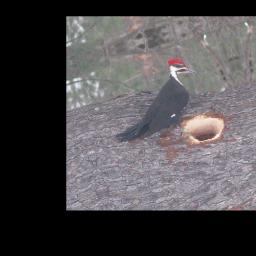Woodpecker: (99, 51, 214, 161)
